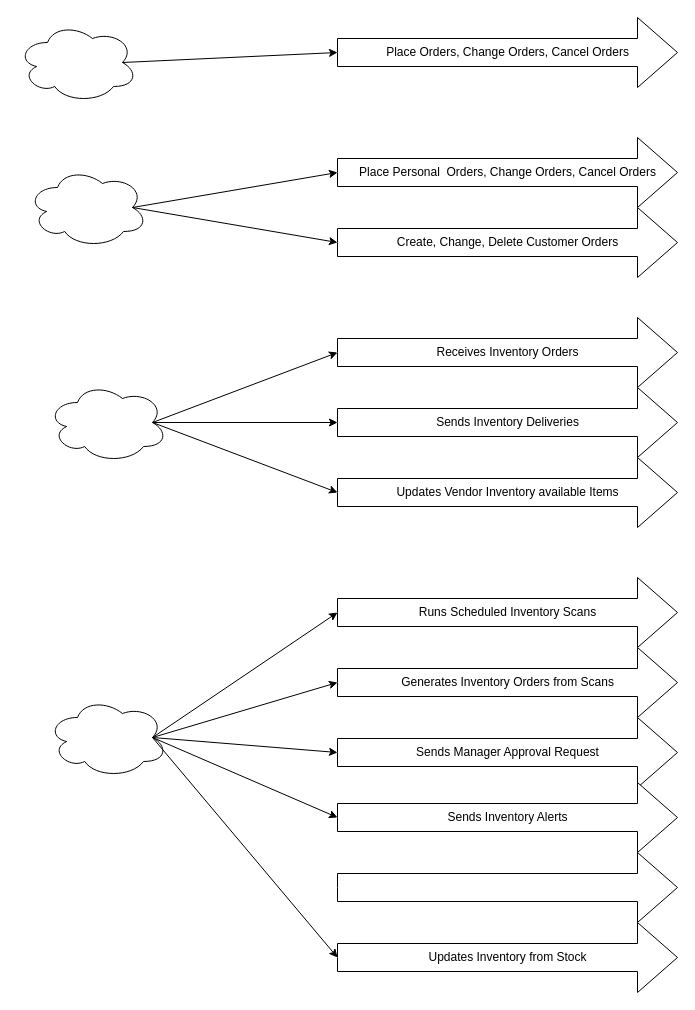
Some shapes in this 695 by 1010 pixel diagram are drawn without their labels. Here are the shapes that lost their labels. From the top down, the centre of each, then its label:
At pixel 77 62: "Customers".
At pixel 87 207: "Employees".
At pixel 107 422: "Vendors".
At pixel 107 737: "System".
At pixel 507 887: "Sends Price Alerts".
